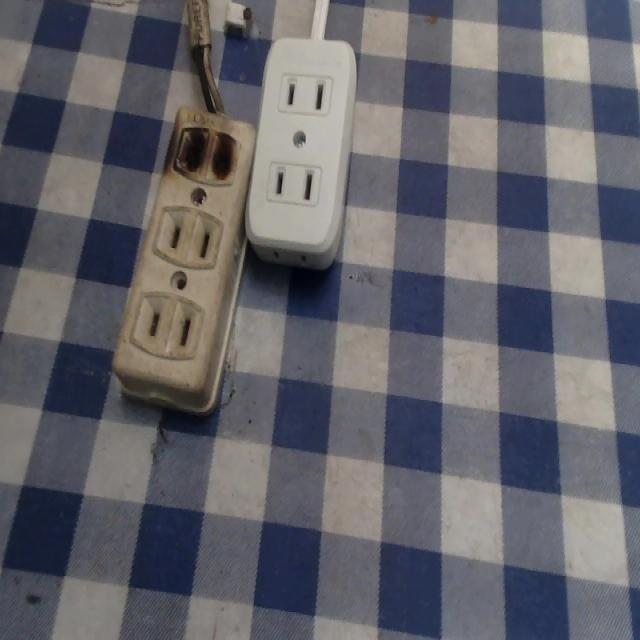-: (171, 112, 240, 188)
